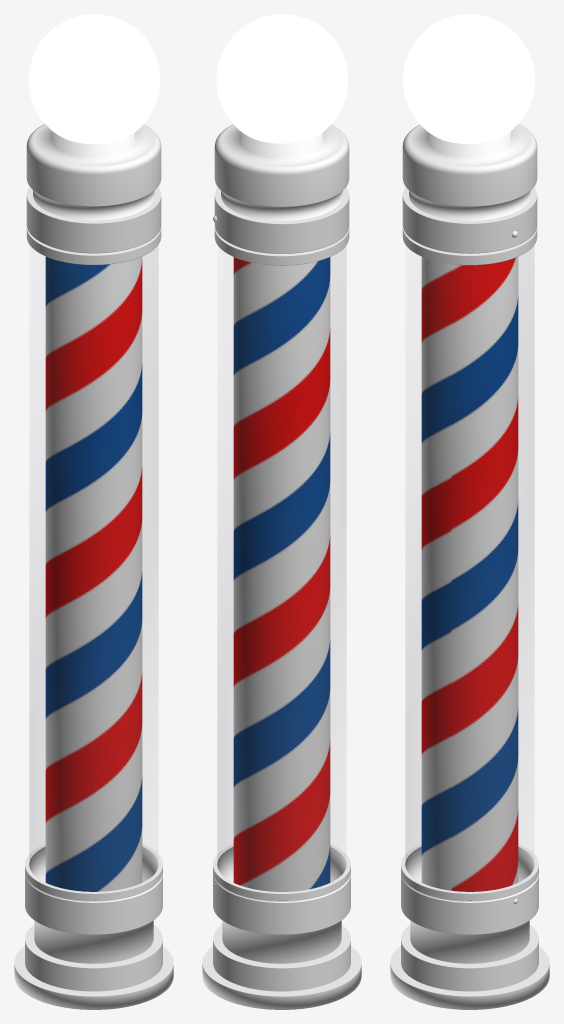
Rendered from barbers_pole.glb.
The picture shows the model from 3 angles, left to right: view 1: azimuth 30°, elevation 25°; view 2: azimuth 150°, elevation 25°; view 3: azimuth 270°, elevation 25°; orthographic projection.
Size of the model in its own units: 1.11 by 7.33 by 1.11.
Materials: 5 (1 with a texture image).
